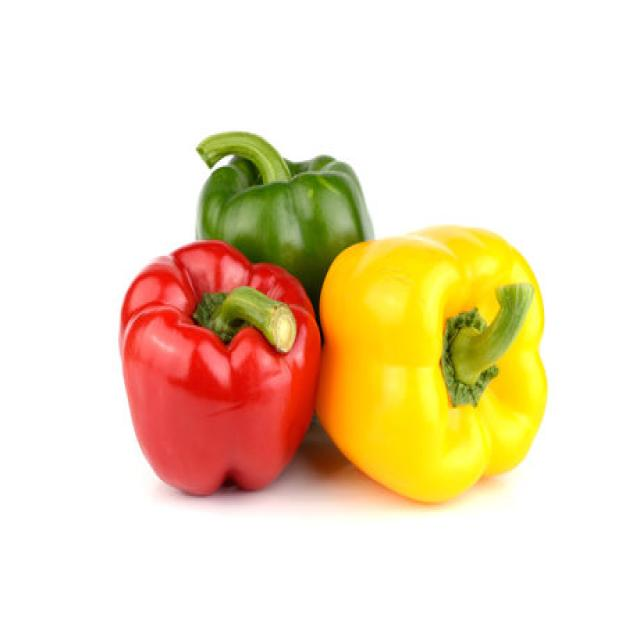Bell Pepper: (314, 222, 547, 503), (117, 238, 321, 496), (193, 128, 374, 308)
